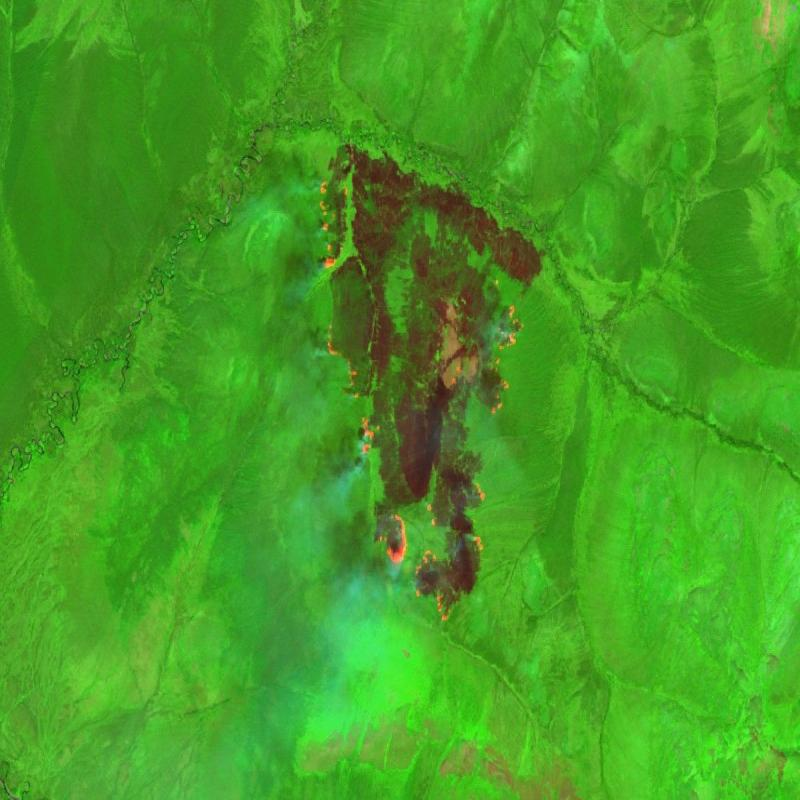fire: (315, 137, 527, 628)
